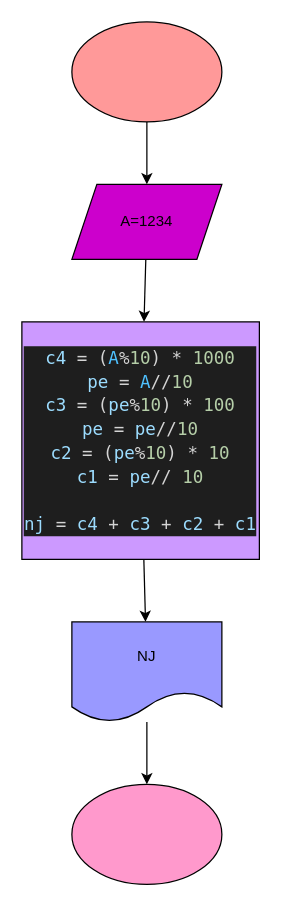
Some shapes in this 281 by 906 pixel diagram are drawn without their labels. Each missing label, with the centre of its shape:
"FIN" belongs at [146,833].
"INICIO" belongs at [146,71].
